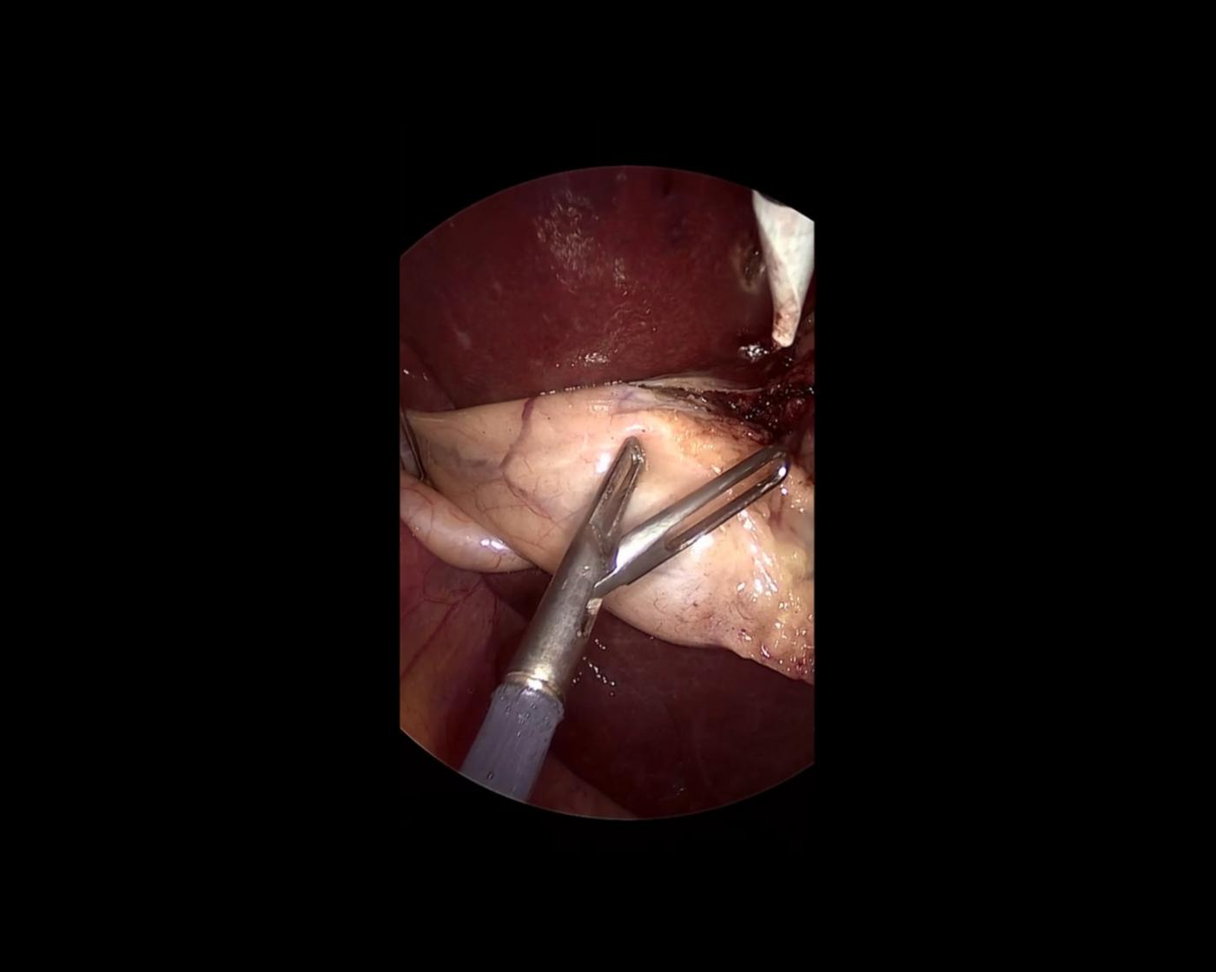Cautery: (752, 186, 815, 354)
Forceps: (399, 366, 799, 817)
Liver: (375, 145, 782, 416), (542, 605, 838, 862)
